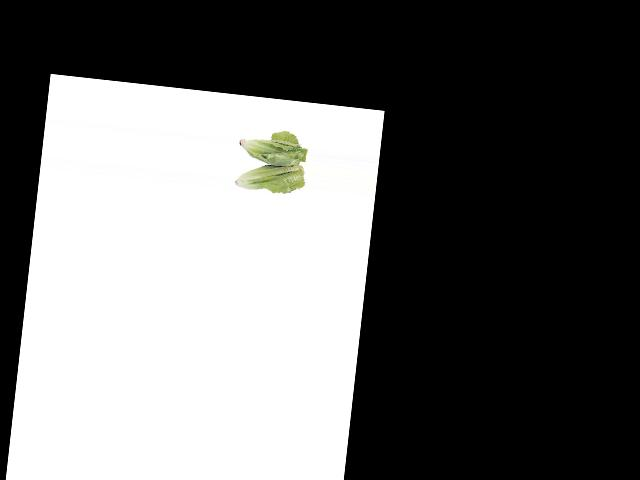lettuce: (233, 132, 309, 199)
